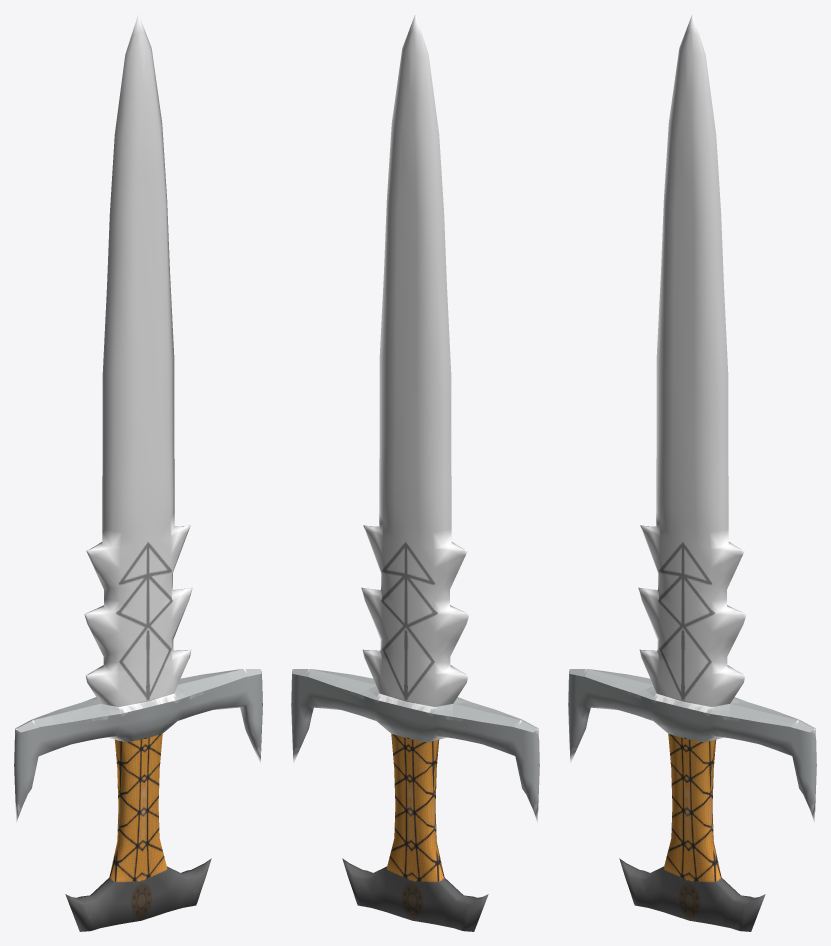
File: 3D_PROP_WEAPON_SwordBasic.fbx
The picture shows the model from 3 angles, left to right: view 1: azimuth 30°, elevation 25°; view 2: azimuth 150°, elevation 25°; view 3: azimuth 330°, elevation 25°; orthographic projection.
Visible parts, largest first — view 1: Box001; view 2: Box001; view 3: Box001.
Part boxes in pixels (<box>): Box001: <box>14,14,262,931</box>; Box001: <box>291,14,539,931</box>; Box001: <box>568,14,816,931</box>.
Bounding box in the file's own units: 9.38 × 32.67 × 1.56.
